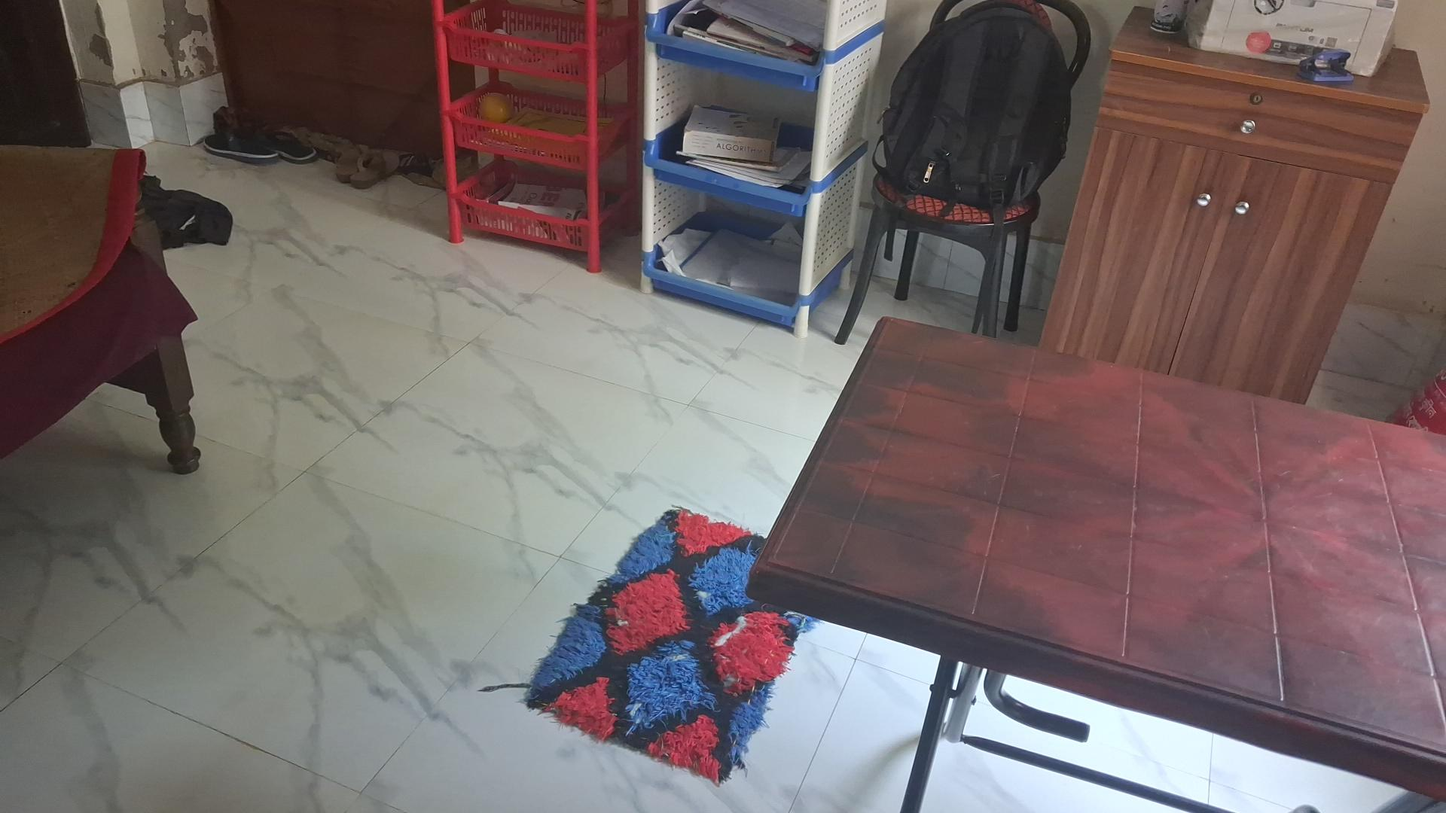Bag: (880, 0, 1080, 226)
Book: (681, 108, 786, 162)
Chair: (833, 2, 1093, 346)
Floor Mat: (529, 502, 812, 775)
Footwear: (202, 130, 318, 167), (339, 143, 398, 186)
Rack: (640, 0, 881, 339), (430, 0, 647, 275)
Table: (745, 313, 1446, 813)
